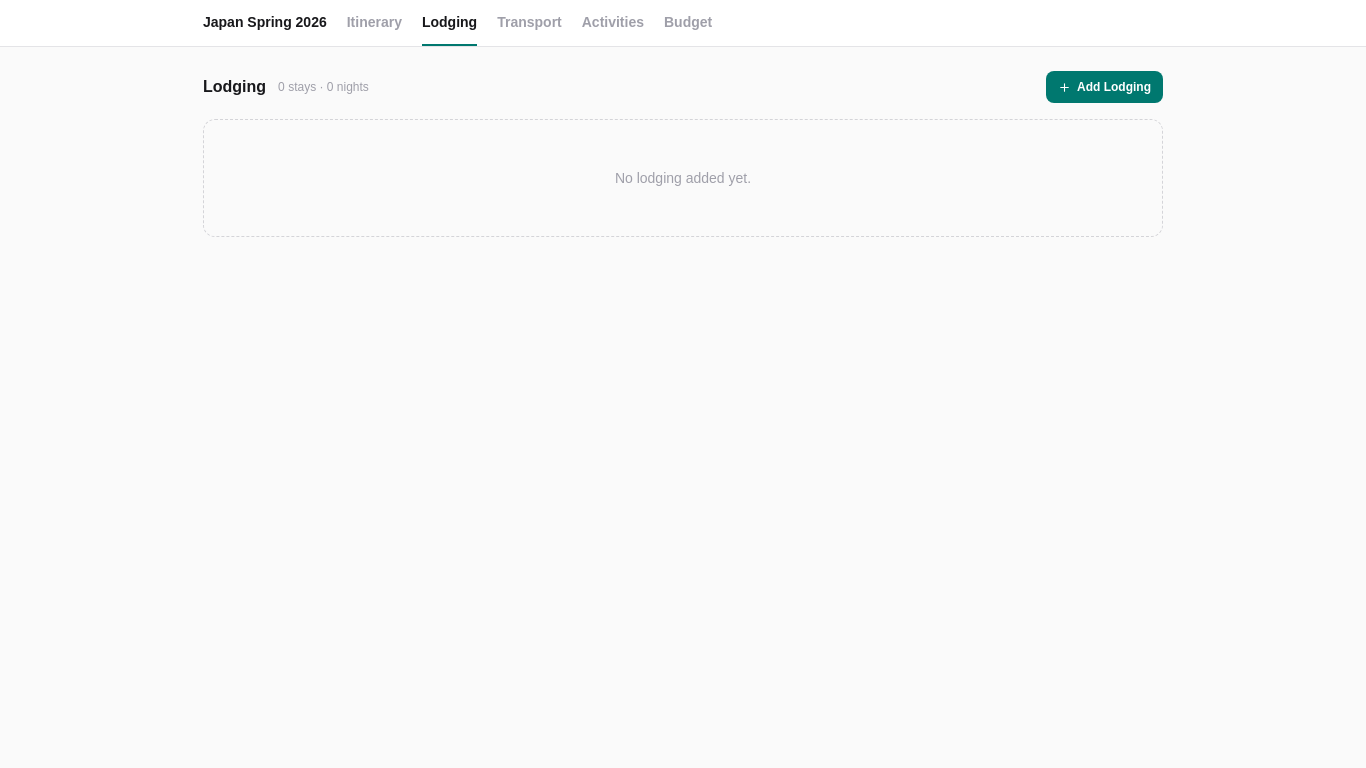
Lodging page — Add Lodging form validation › shows a name-required error when submitting an empty form
Click the button "Add Lodging": (1104, 87) [1046,71,1163,103]
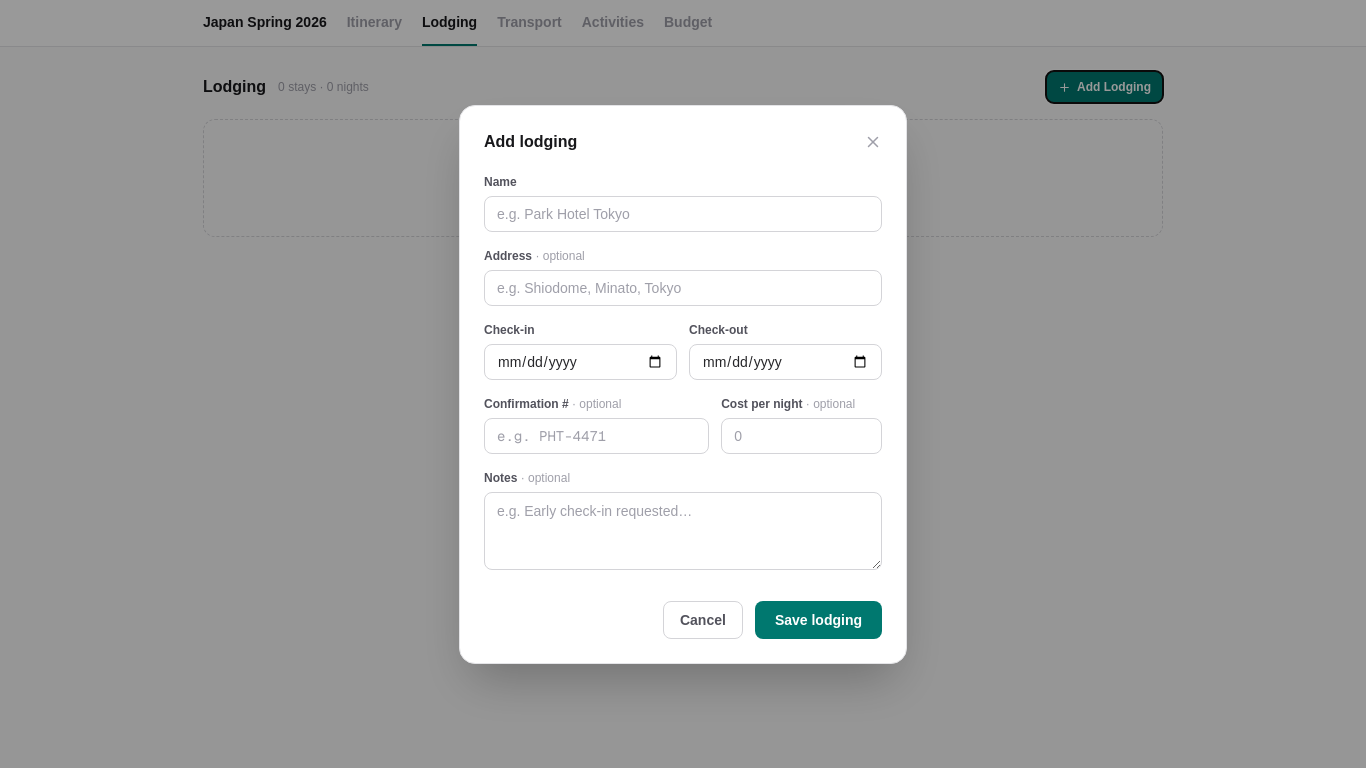
Click the button "Save lodging": (818, 620) [755,600,882,638]
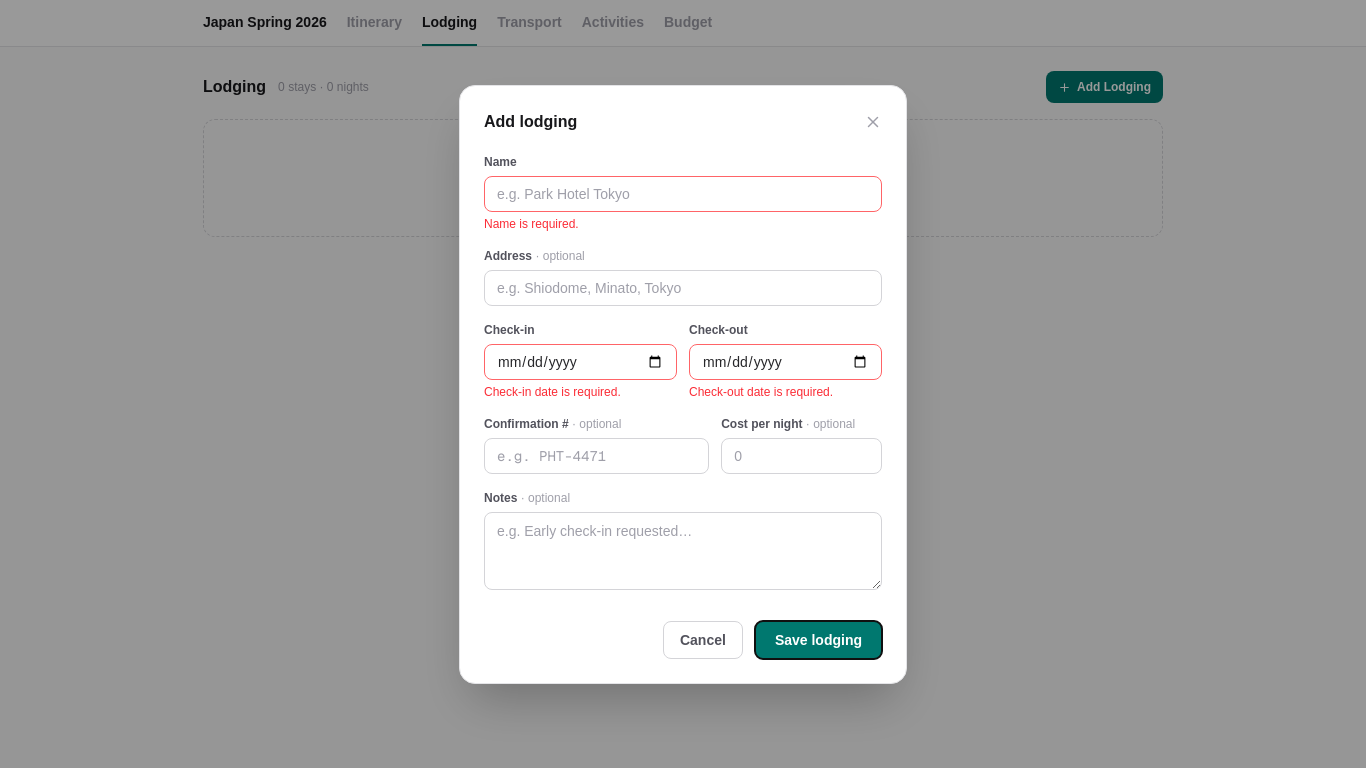
Expected: the text "Name is required." is shown, [484,216,579,230]
